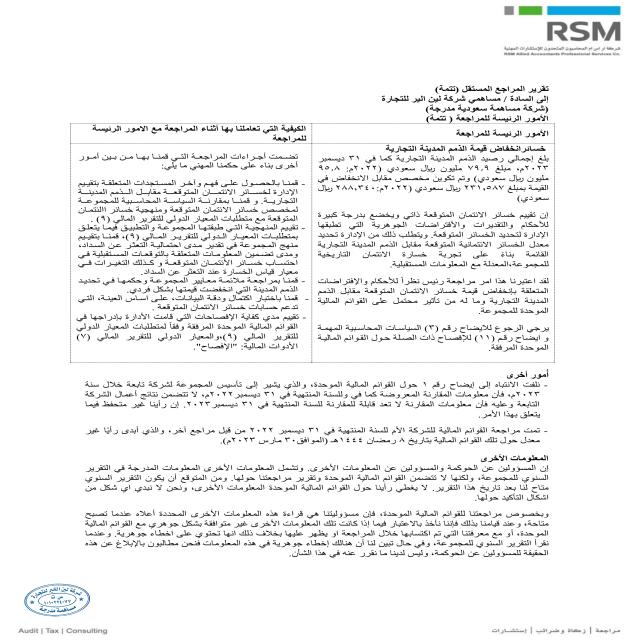auditor_report: (432, 82, 550, 95), (454, 127, 556, 140), (420, 114, 552, 123)
